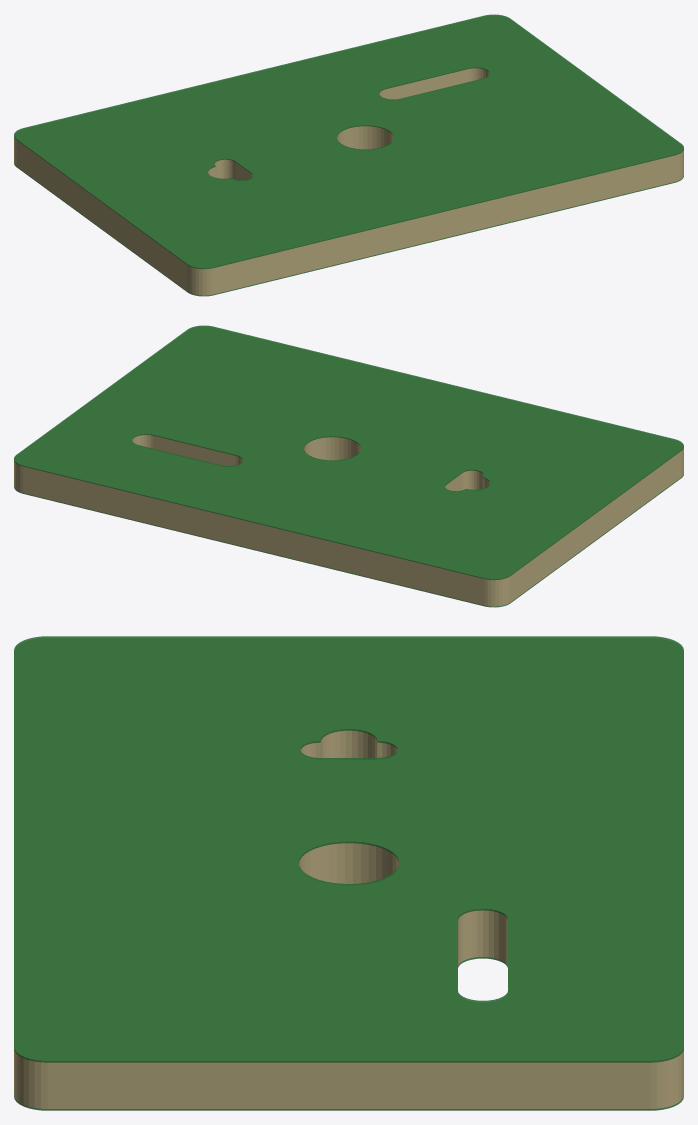
The model's file is outline-cutouts.glb.
3 renders of one model, top to bottom at view 1: azimuth 30°, elevation 25°; view 2: azimuth 150°, elevation 25°; view 3: azimuth 270°, elevation 25°, orthographic. The views are drawn at different scales.
Parts seen in each view (by area): view 1: layer/@soldermask-top, layer/@core, layer/@soldermask-bottom; view 2: layer/@soldermask-top, layer/@core, layer/@soldermask-bottom; view 3: layer/@soldermask-top, layer/@core, layer/@soldermask-bottom.
Boxes of the visible parts, x1,y1,x2,y2 form: layer/@soldermask-top: (14, 14, 683, 269); layer/@core: (14, 16, 683, 295); layer/@soldermask-bottom: (14, 163, 683, 296); layer/@soldermask-top: (14, 325, 683, 580); layer/@core: (14, 328, 683, 606); layer/@soldermask-bottom: (14, 474, 683, 607); layer/@soldermask-top: (14, 636, 683, 1062); layer/@core: (14, 638, 683, 1108); layer/@soldermask-bottom: (14, 957, 683, 1110).
Size of the model in its own units: 0.03 by 0.00164 by 0.02.
